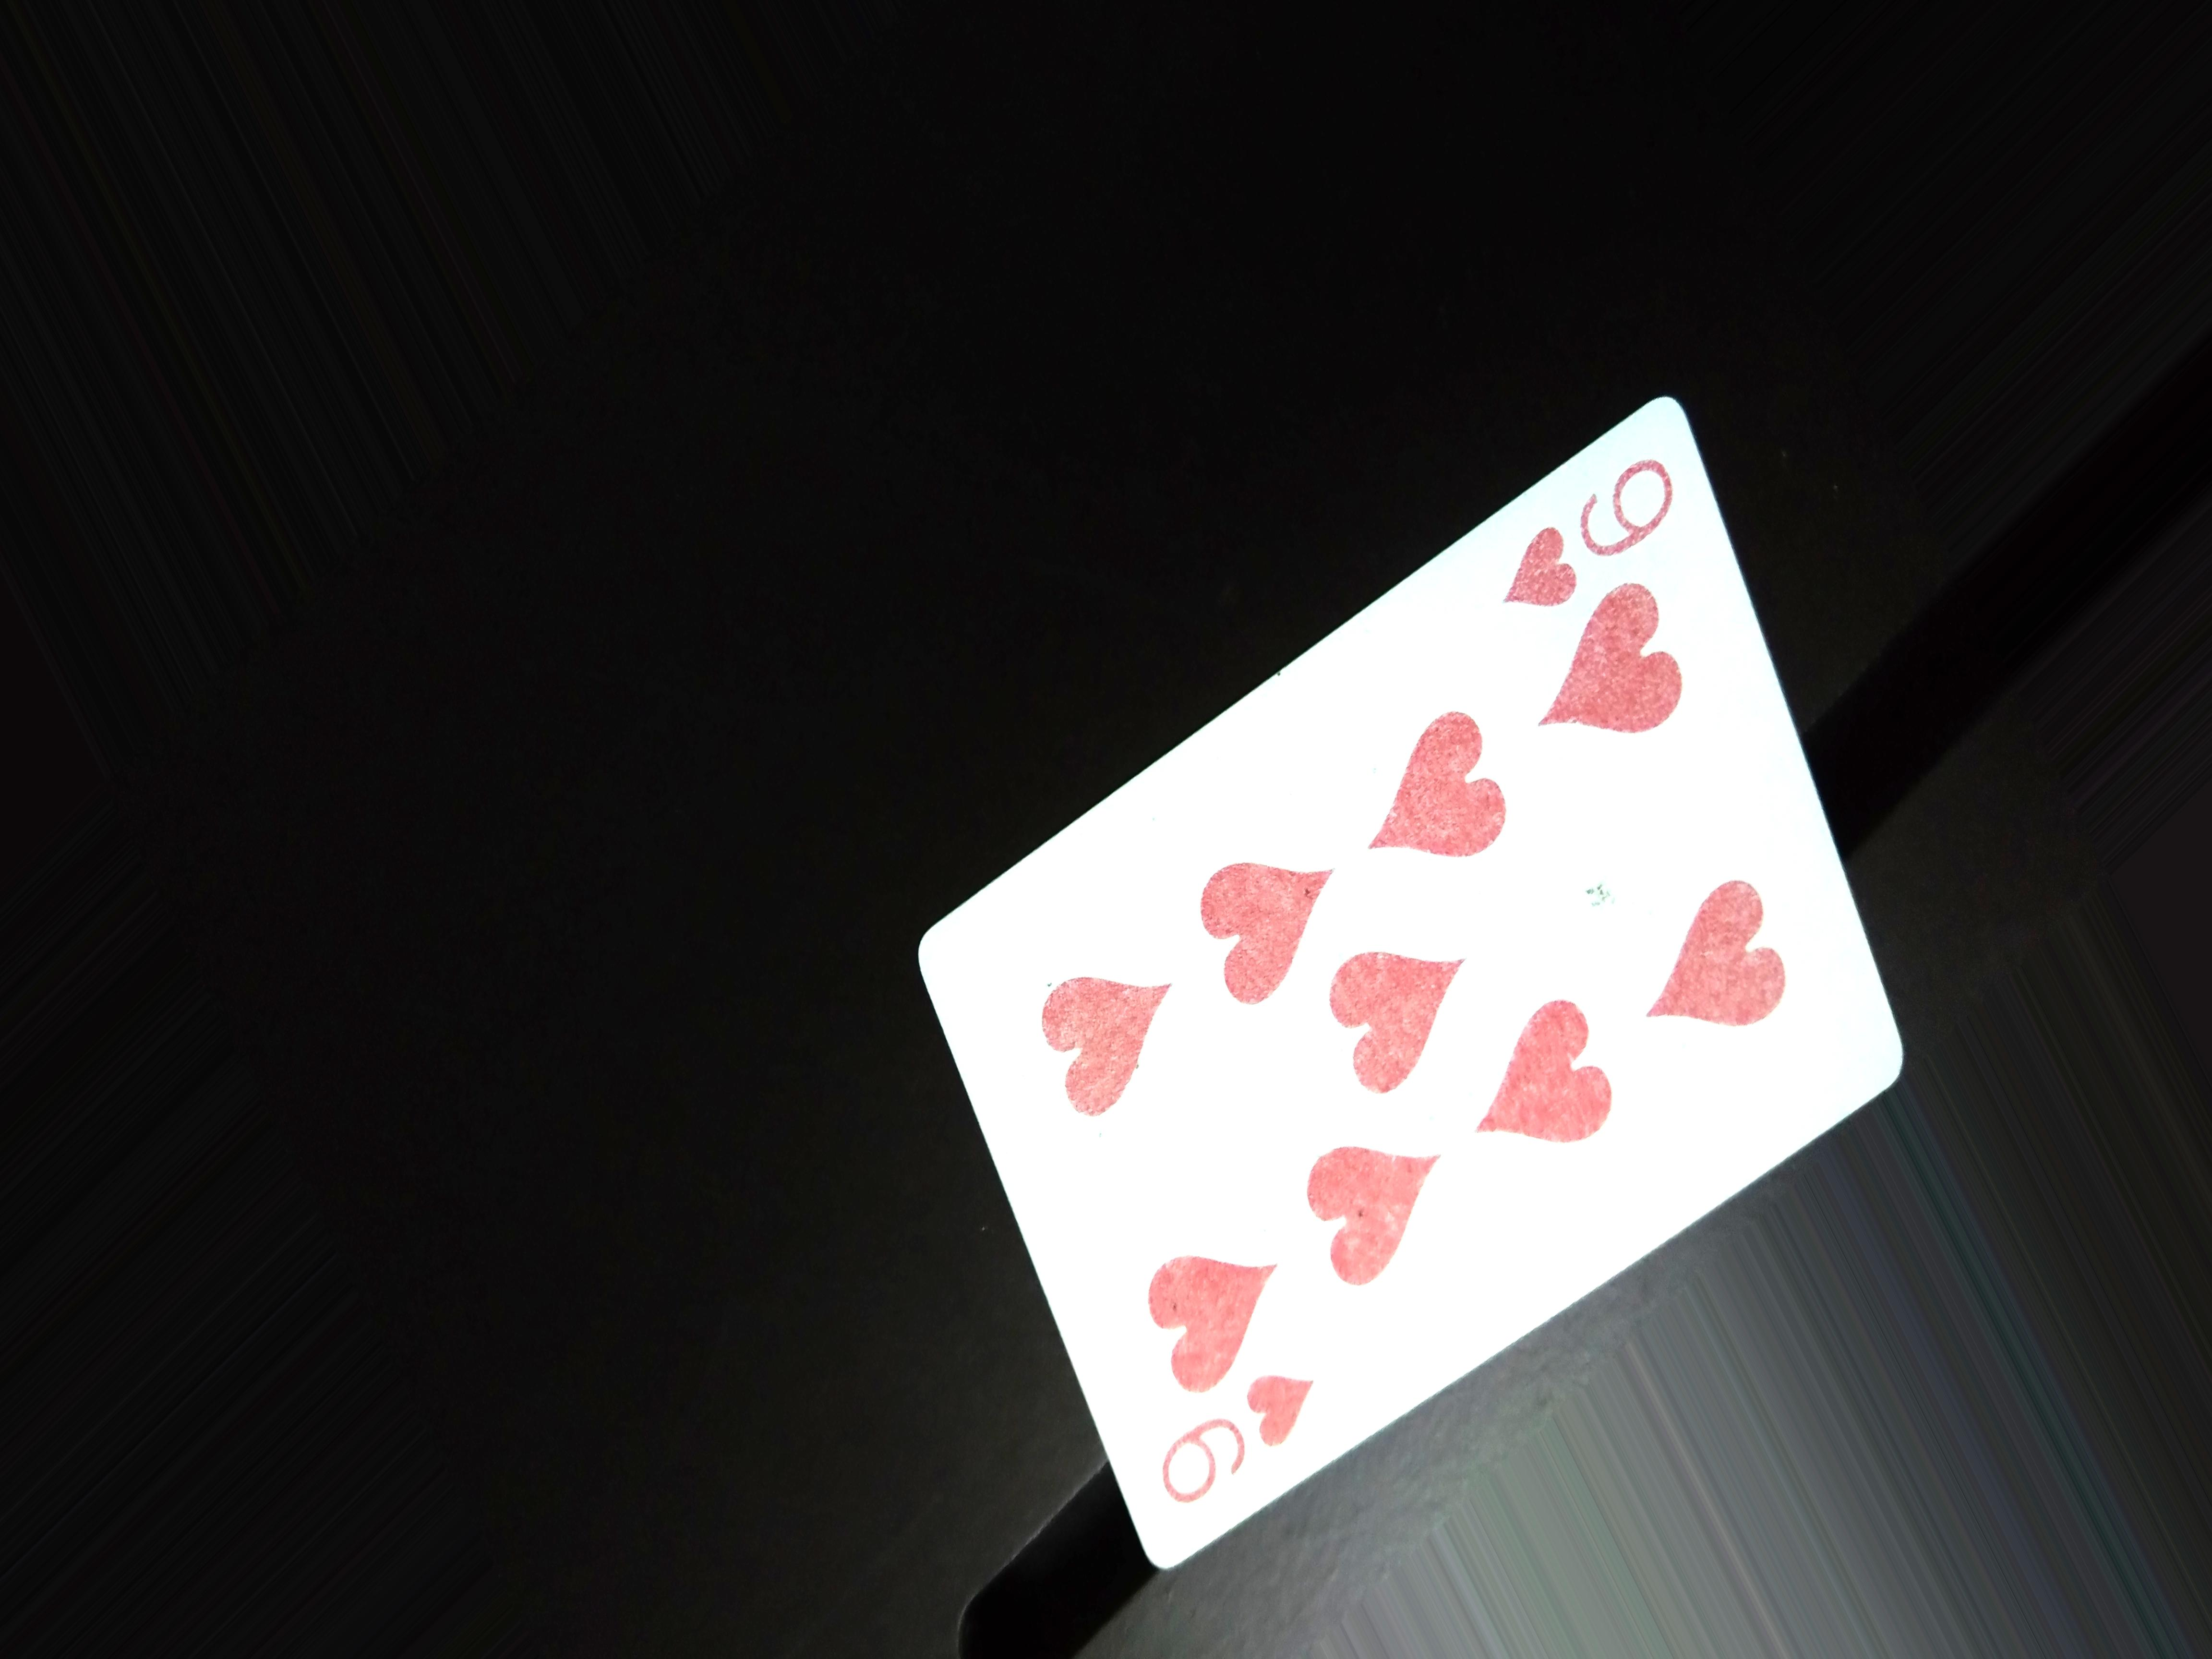9H: (1501, 437, 1712, 624)
